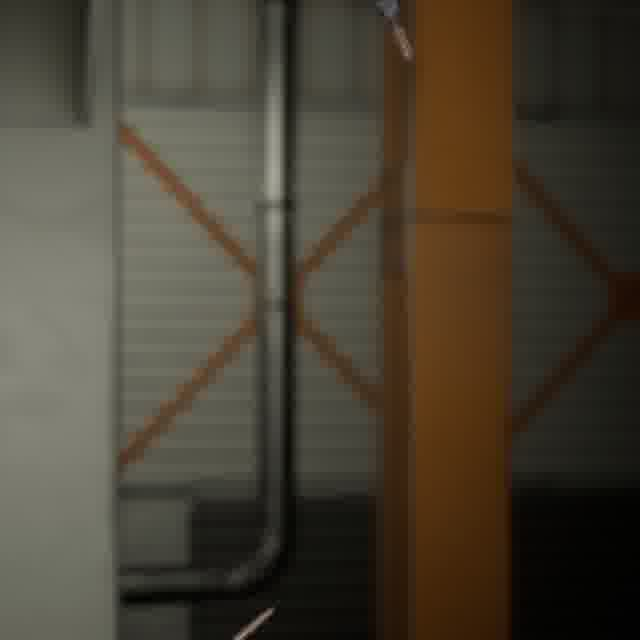bolt: (369, 0, 417, 65), (224, 601, 279, 640)
